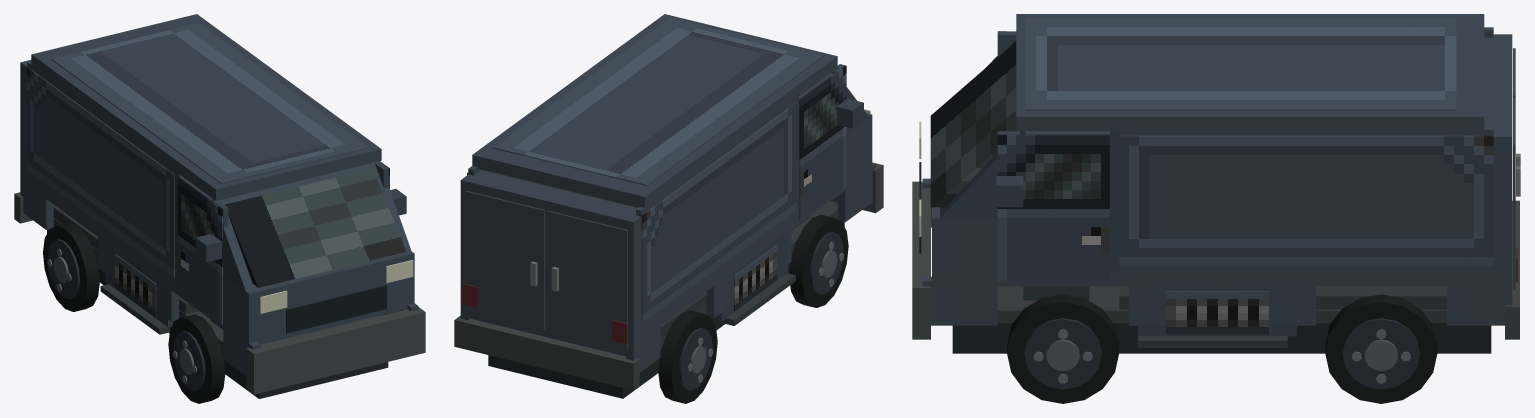
Rendered from CMU3DRMCPropVehicleBoxVanBlueGrey.glb.
3 renders of one model, left to right at view 1: azimuth 30°, elevation 25°; view 2: azimuth 150°, elevation 25°; view 3: azimuth 270°, elevation 25°, orthographic. The views are drawn at different scales.
Visible parts, largest first — view 1: original roof panel, original cargo side -1, continuous sloping windshield, roof slab, front bumper, front cab lower, original cab door -1, front glazing surround, tire 2 -1, tire 1 -1, upper wheel rail -1, front grille (+16 smaller); view 2: original roof panel, original cargo side -1, roof slab, rear door panel 1, rear door panel -1, rear closure, rear bumper, original cab door -1, tire 2 -1, upper wheel rail -1, tire 1 -1, ladder chassis (+14 smaller); view 3: original cargo side 1, original roof panel, original cab door 1, roof slab, continuous sloping windshield, upper wheel rail 1, rear closure, ladder chassis, tire 2 1, tire 1 1, cargo side shell 1, lower skirt 1 1 (+20 smaller).
Boxes of the visible parts, box(x1,y1,x2,y2) form: original roof panel: box(51, 23, 368, 184); original cargo side -1: box(26, 67, 174, 277); continuous sloping windshield: box(225, 168, 406, 287); roof slab: box(31, 14, 381, 200); front bumper: box(246, 307, 425, 394); front cab lower: box(217, 251, 414, 346); original cab door -1: box(177, 177, 222, 324); front glazing surround: box(212, 161, 411, 297); tire 2 -1: box(43, 222, 99, 311); tire 1 -1: box(168, 314, 225, 403); upper wheel rail -1: box(24, 170, 256, 346); front grille: box(286, 285, 386, 333); original roof panel: box(493, 18, 823, 185); original cargo side -1: box(641, 103, 796, 322); roof slab: box(472, 14, 837, 208); rear door panel 1: box(464, 190, 545, 329); rear door panel -1: box(547, 210, 627, 350); rear closure: box(460, 170, 648, 358); rear bumper: box(454, 315, 639, 390); original cab door -1: box(799, 65, 846, 219); tire 2 -1: box(658, 310, 717, 403); upper wheel rail -1: box(637, 157, 872, 341); tire 1 -1: box(789, 214, 848, 307); ladder chassis: box(488, 221, 844, 398); original cargo side 1: box(1119, 135, 1493, 266); original roof panel: box(1025, 18, 1456, 110); original cab door 1: box(997, 135, 1109, 281); roof slab: box(1016, 14, 1484, 131); continuous sloping windshield: box(930, 42, 1016, 207); upper wheel rail 1: box(932, 270, 1502, 286); rear closure: box(1475, 34, 1512, 302); ladder chassis: box(952, 323, 1491, 353); tire 2 1: box(1325, 294, 1437, 403); tire 1 1: box(1007, 294, 1119, 403); cargo side shell 1: box(1119, 126, 1493, 275); lower skirt 1 1: box(1128, 281, 1315, 325).
Size of the model in its own units: 0.98 by 1.05 by 2.03.
Materials: 25 (5 with a texture image).
